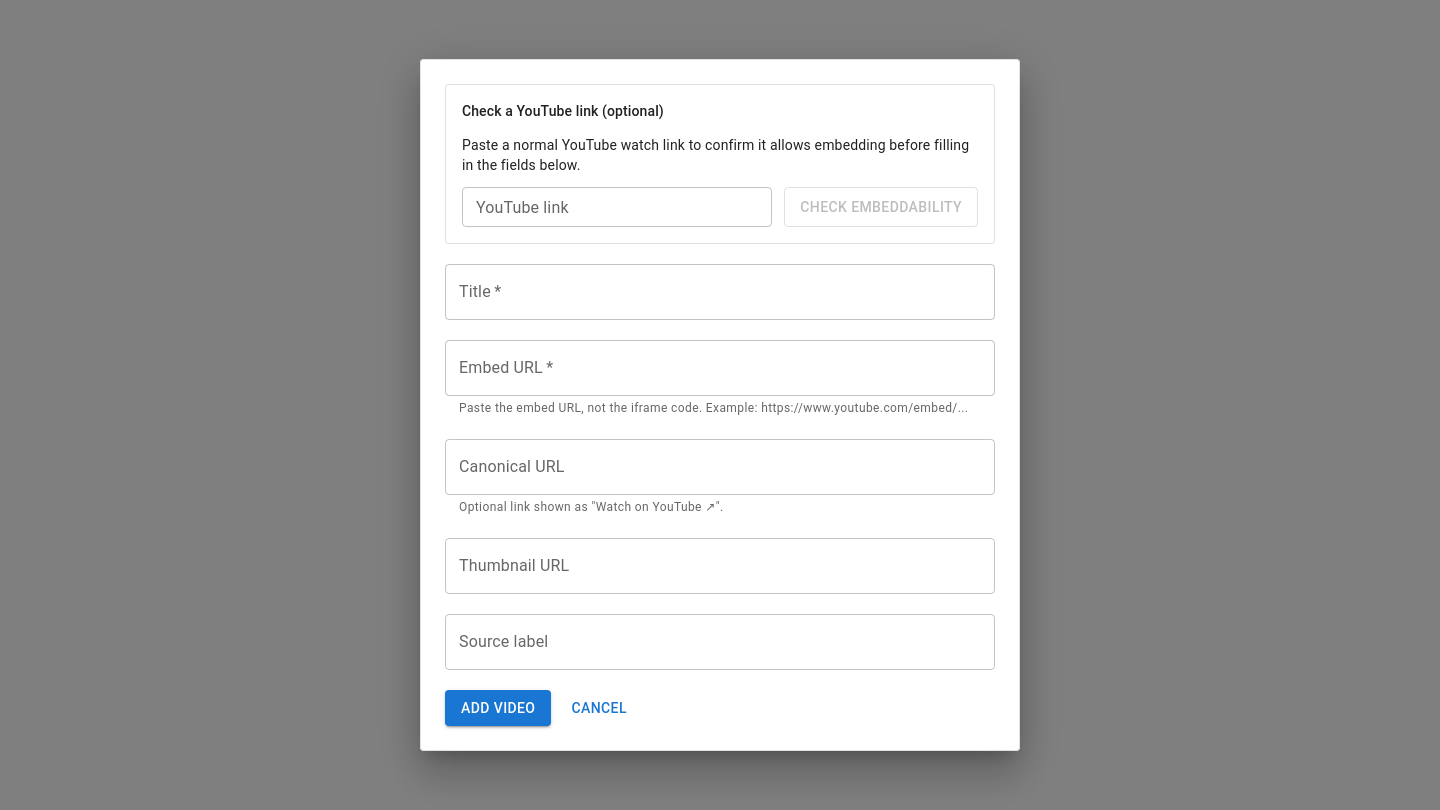
Test case: CuratedVideoForm — YouTube checker integration › "Use this video" fills the real Embed URL and Title fields via RHF setValue
Type "https://www.youtube.com/watch?v=r3kR5f2lToI" into the field labelled "YouTube link".
click(617, 207); type("https://www.youtube.com/watch?v=r3kR5f2lToI")  # box [462,187,772,227]
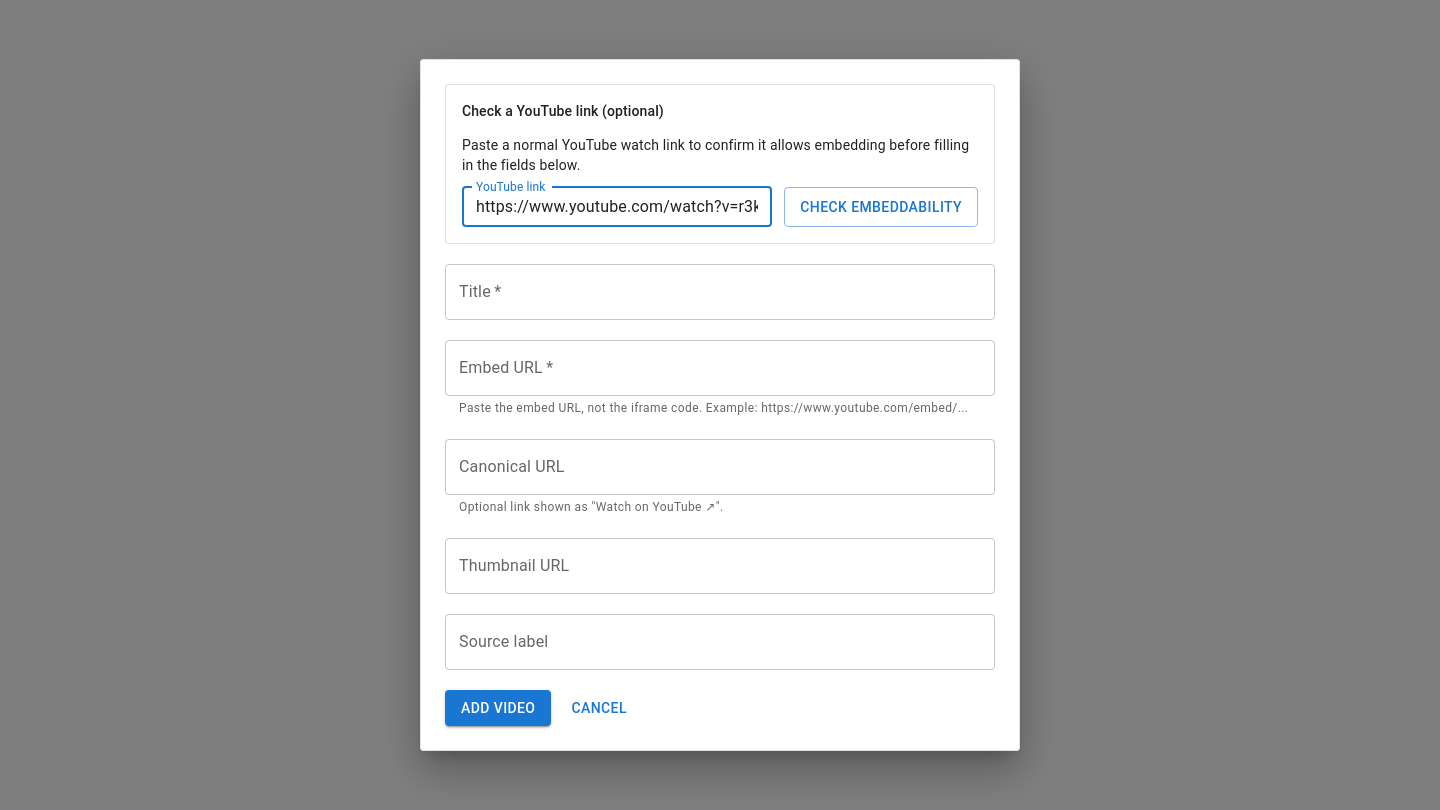
Click the button "Check embeddability".
click(881, 207)  # box [784,187,978,227]
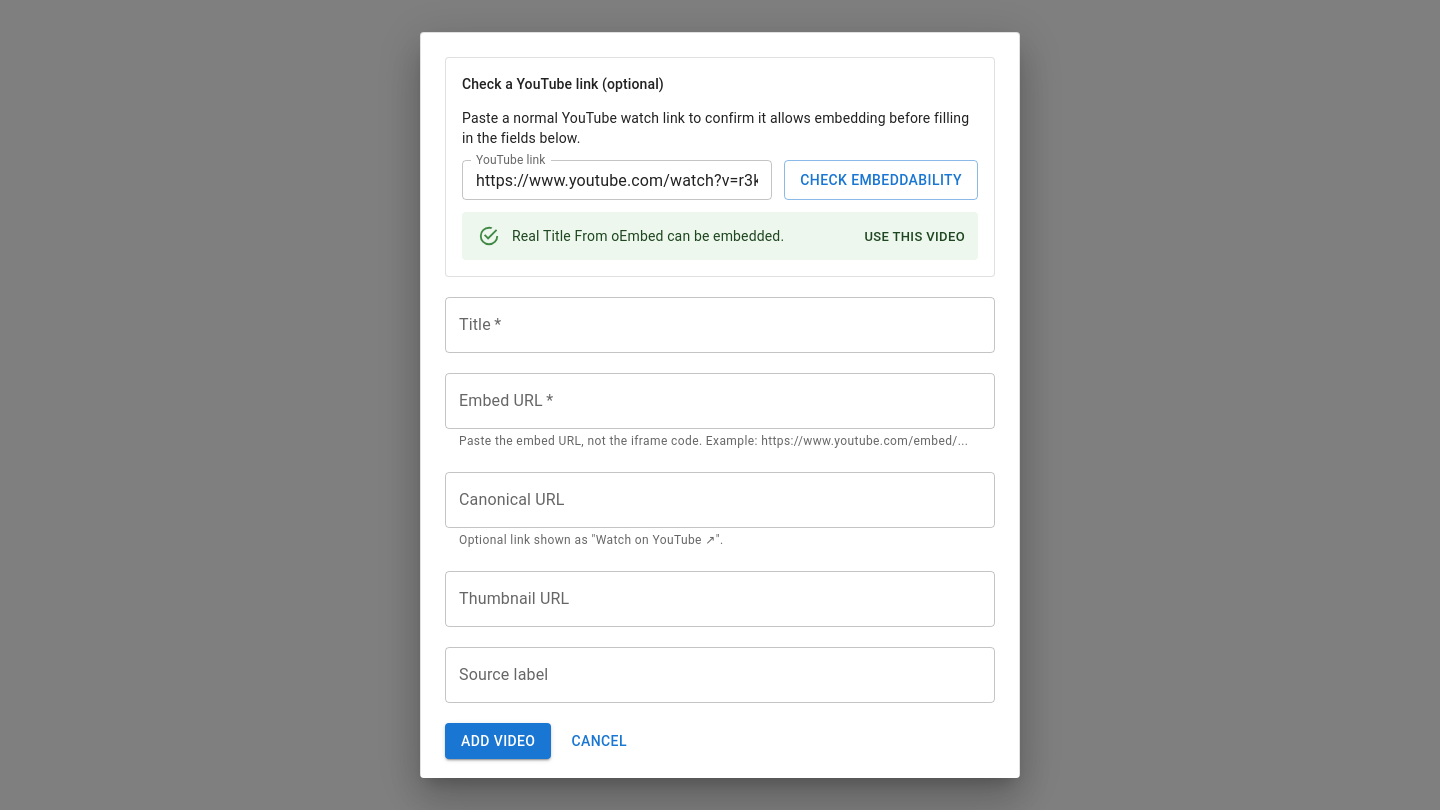
Click the button "Use this video".
click(915, 237)  # box [860,222,970,253]
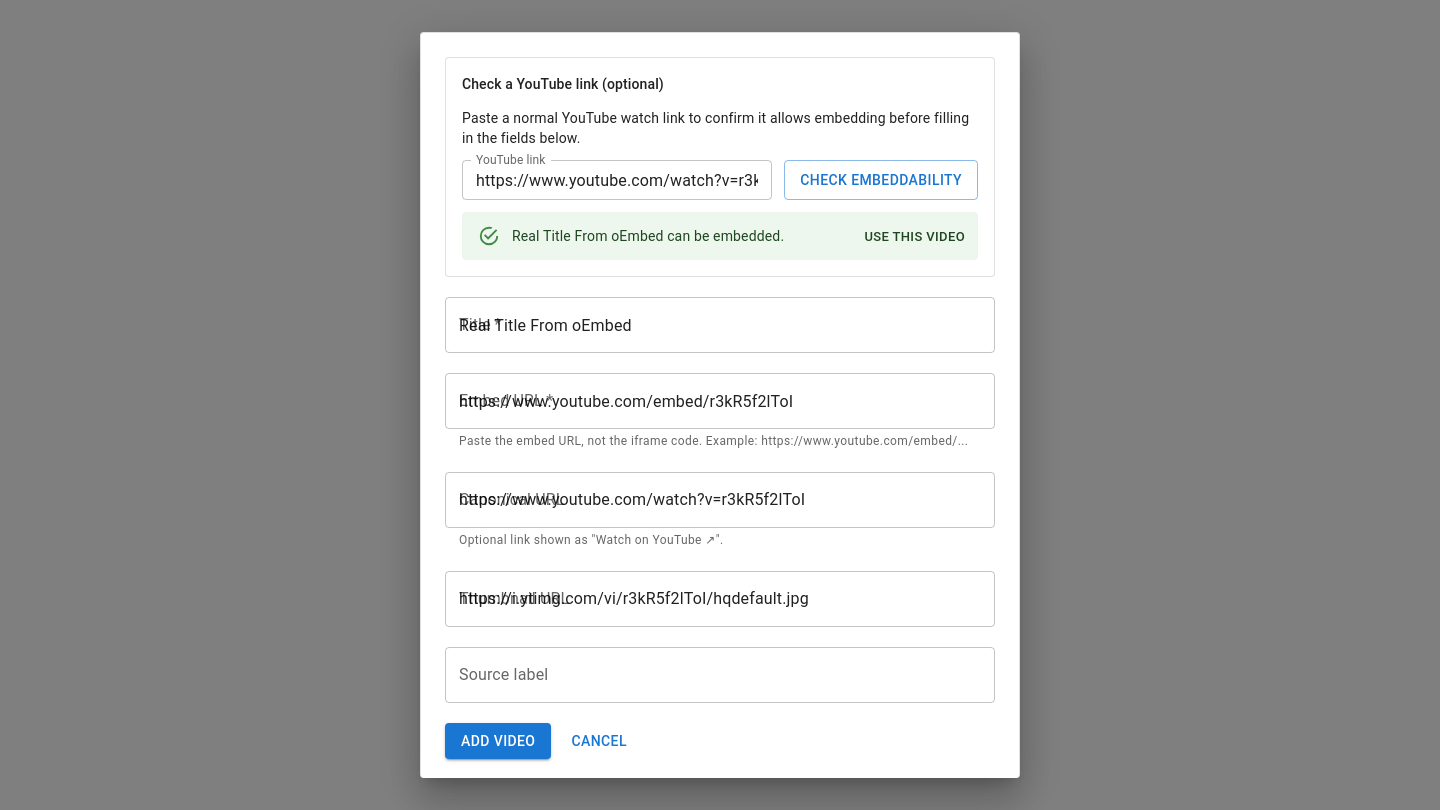
Result: the field labelled "Embed URL" holds "https://www.youtube.com/embed/r3kR5f2lToI" at [445,373,995,429]
Result: the field labelled "Title" holds "Real Title From oEmbed" at [445,297,995,353]
Result: the field labelled "Canonical URL" holds "https://www.youtube.com/watch?v=r3kR5f2lToI" at [445,472,995,528]
